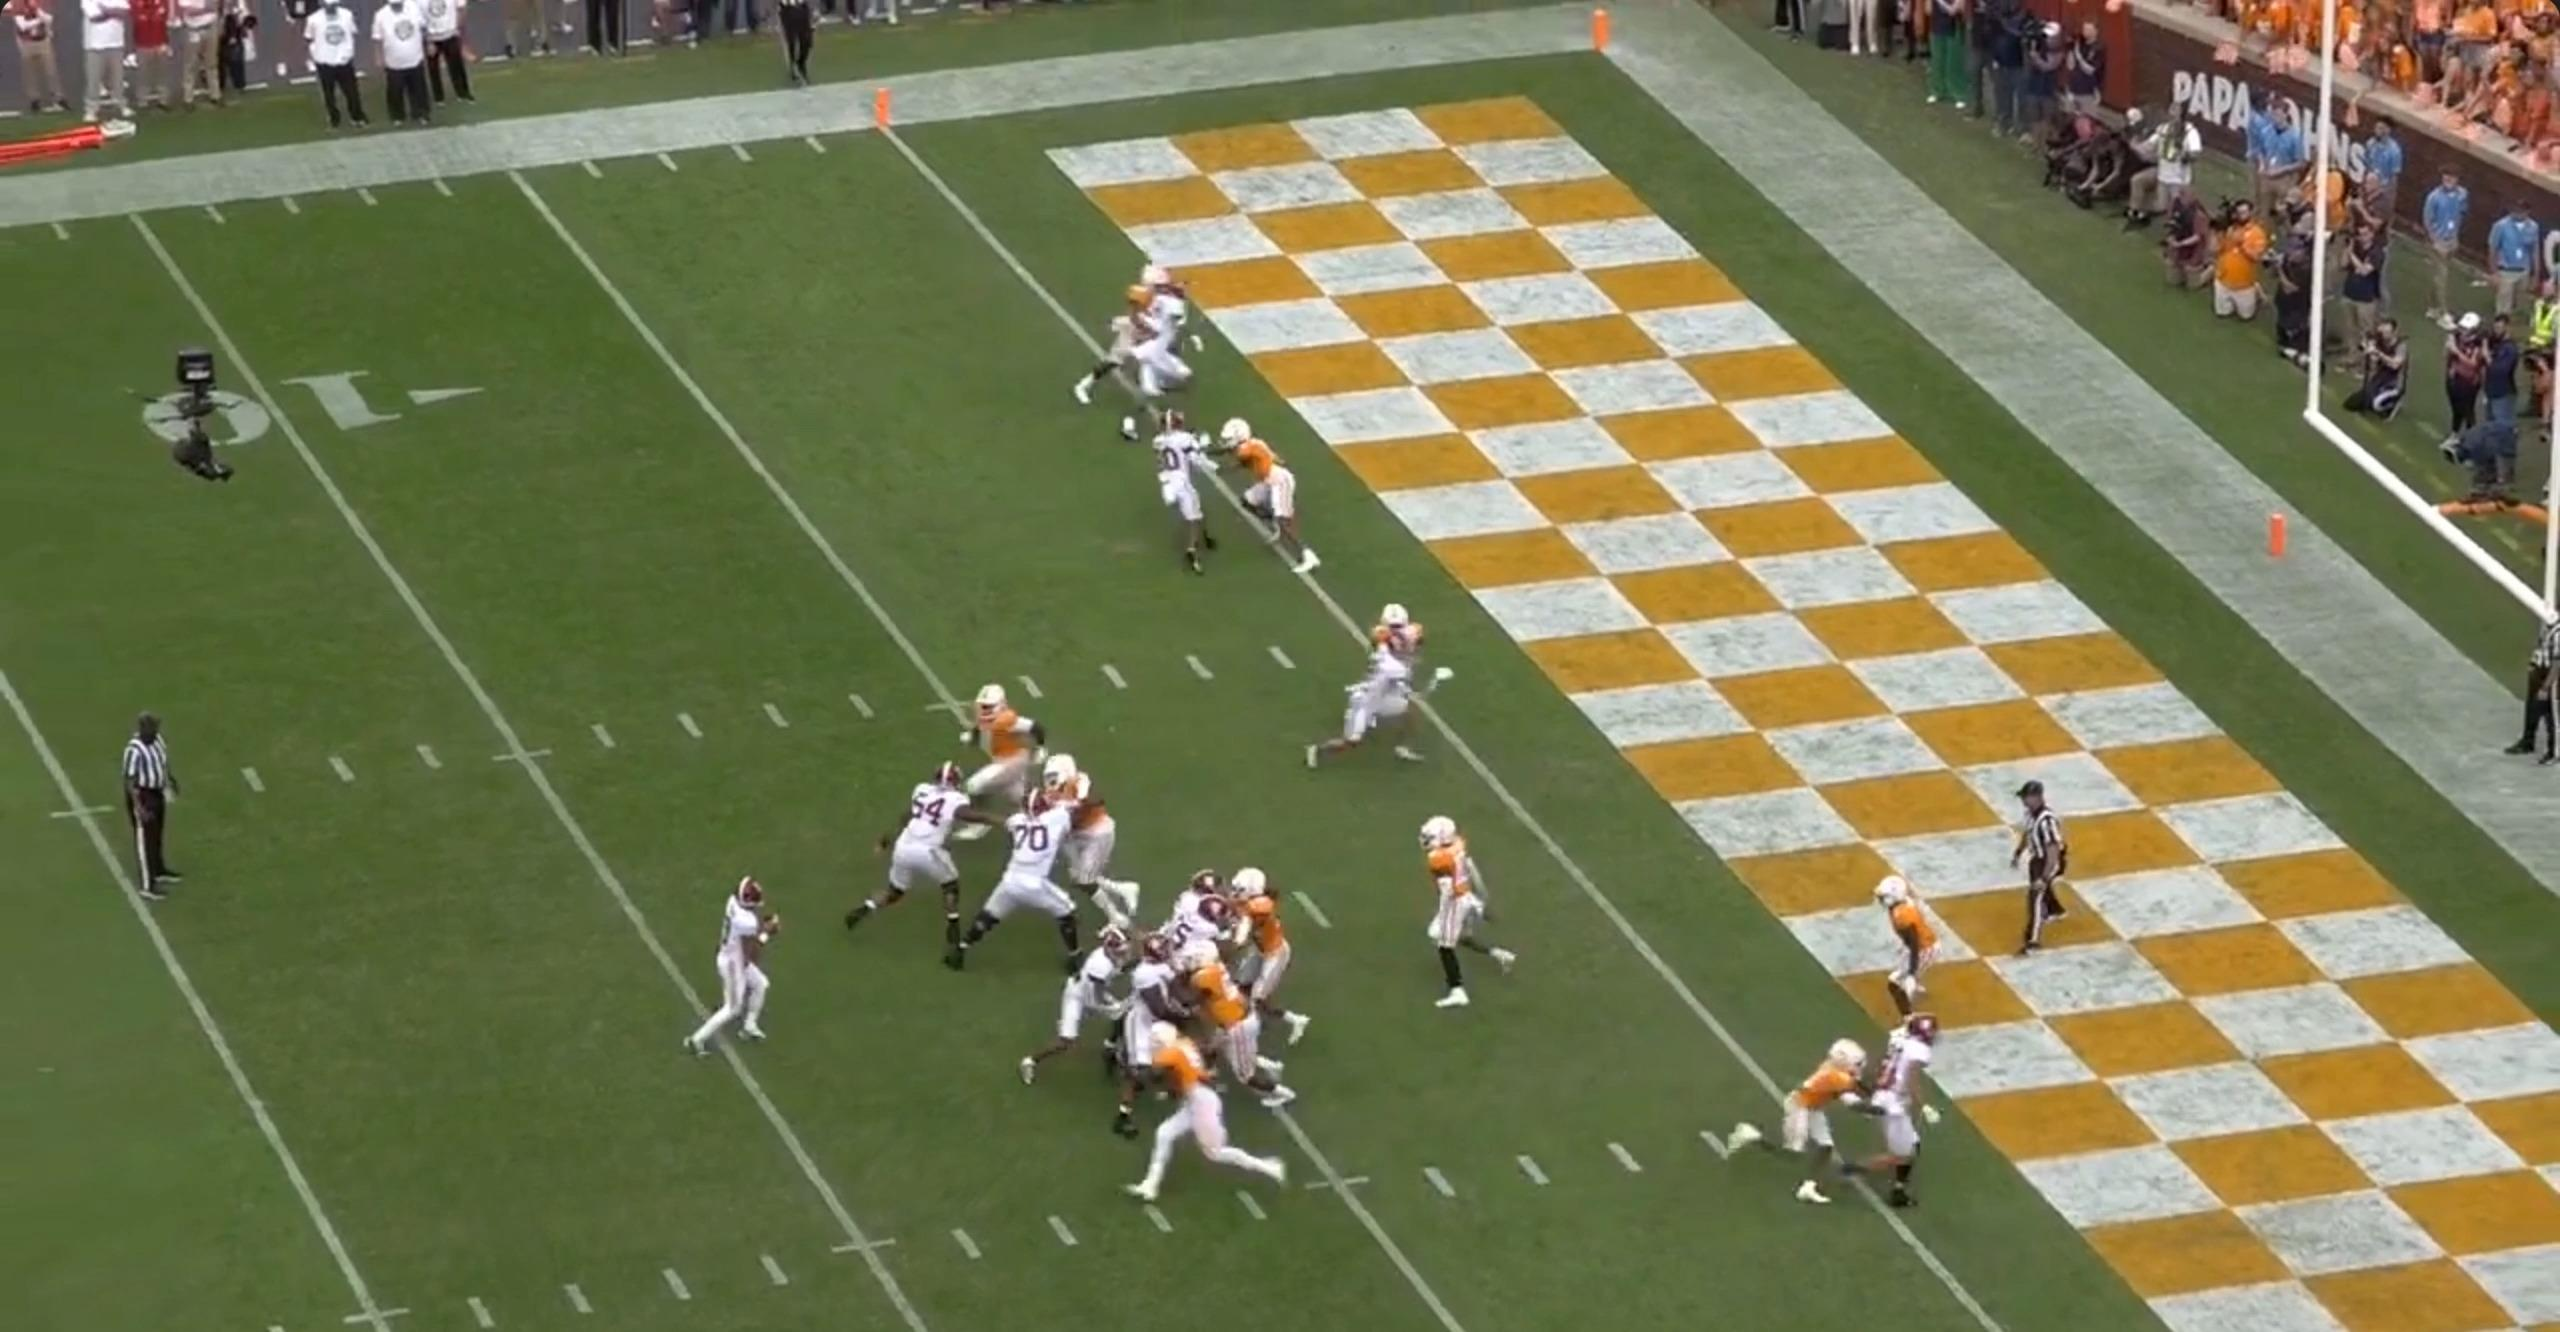defense: (1117, 1019, 1280, 1208), (1419, 814, 1526, 1022), (1190, 939, 1305, 1119), (1222, 408, 1338, 582), (1045, 758, 1150, 927), (1217, 867, 1309, 1053), (1785, 1038, 1876, 1217), (948, 684, 1048, 826), (1072, 264, 1172, 406), (1864, 868, 1956, 1021), (1354, 597, 1458, 696)
oline: (936, 789, 1106, 977), (847, 763, 997, 948), (1111, 939, 1200, 1149), (1156, 895, 1229, 965), (1156, 867, 1224, 926)
qb: (679, 878, 779, 1071)
ref: (107, 711, 181, 916), (2001, 768, 2071, 963), (2513, 606, 2560, 765)
skill: (1012, 912, 1148, 1088), (1297, 631, 1439, 777), (1854, 1014, 1947, 1220), (1151, 411, 1233, 584), (1119, 279, 1195, 440)
